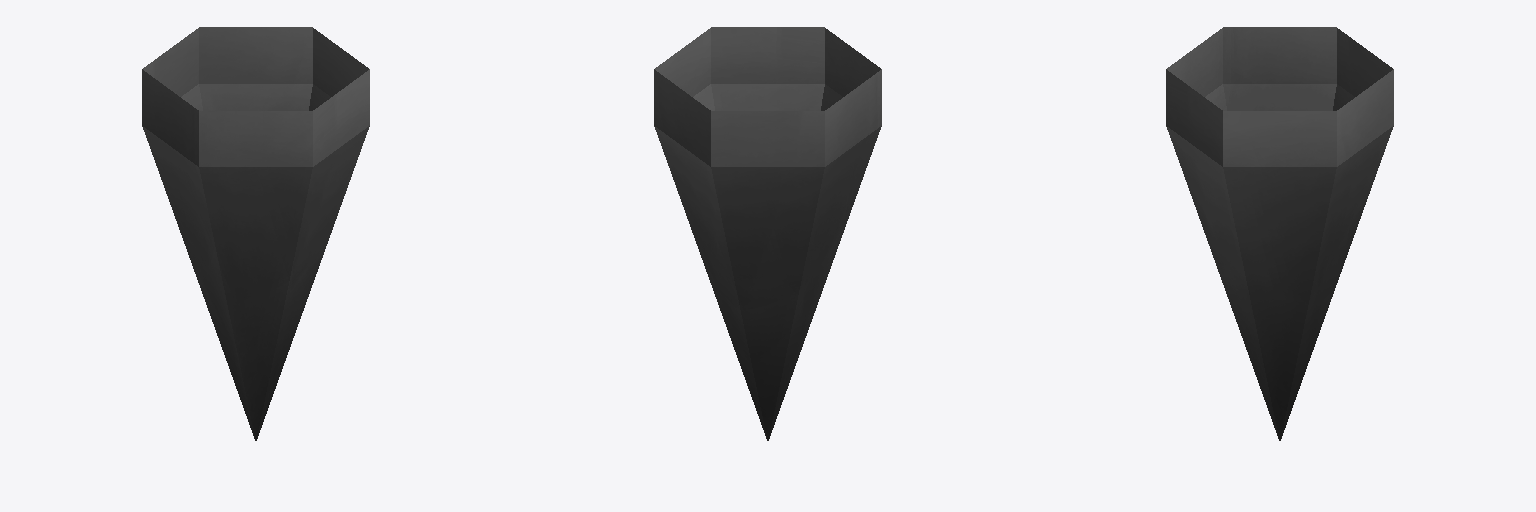
3 renders of one model, left to right at view 1: azimuth 30°, elevation 25°; view 2: azimuth 150°, elevation 25°; view 3: azimuth 270°, elevation 25°, orthographic.
Parts seen in each view (by area): view 1: Cone; view 2: Cone; view 3: Cone.
Boxes of the visible parts, box(x1,y1,x2,y2) form: Cone: box(142, 27, 369, 440); Cone: box(654, 27, 881, 440); Cone: box(1166, 27, 1393, 440).
Bounding box in the file's own units: 1.13 × 2.36 × 1.3.
1 materials, 1 textured.